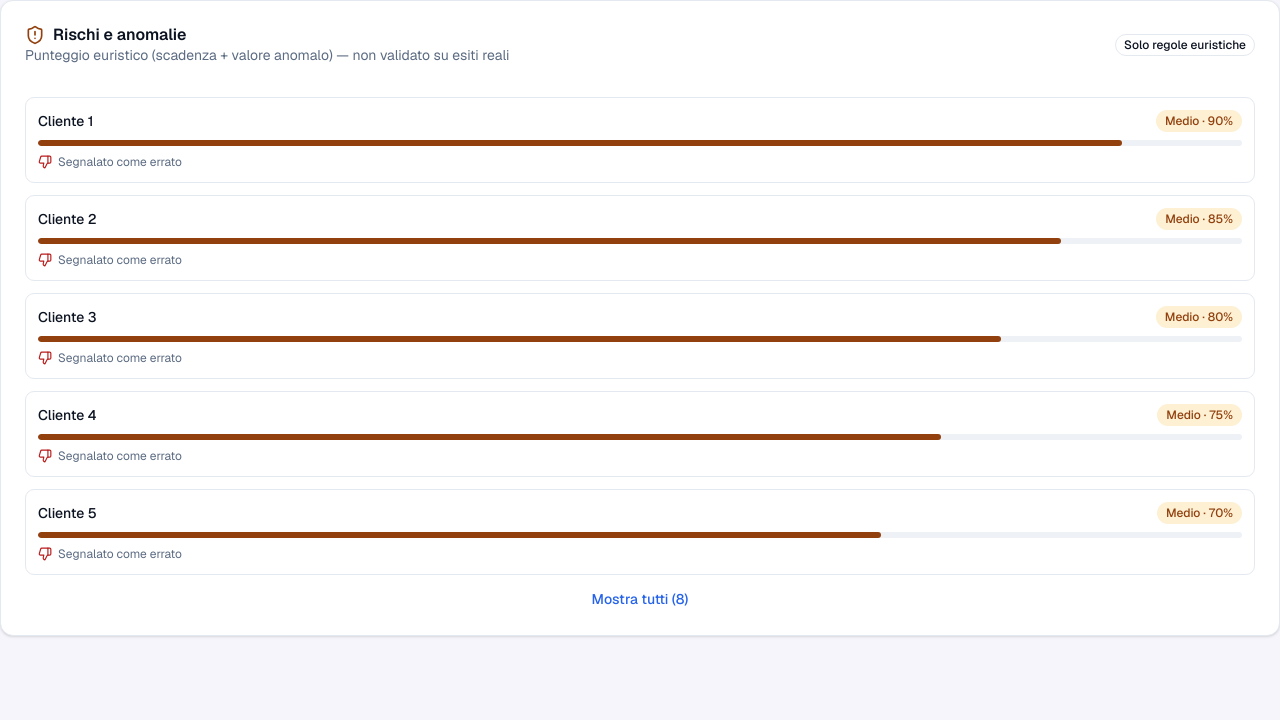
Scenario: RiskScoreWidget › shows only the first 5 scores with a toggle when there are more
Expected: the text "Cliente 1" is shown, [38,111,94,131]
Expected: the text "Cliente 5" is shown, [38,503,97,523]
Click the button "Mostra tutti (8)".
click(640, 599)  # box [25,589,1255,609]
(page scrolled)
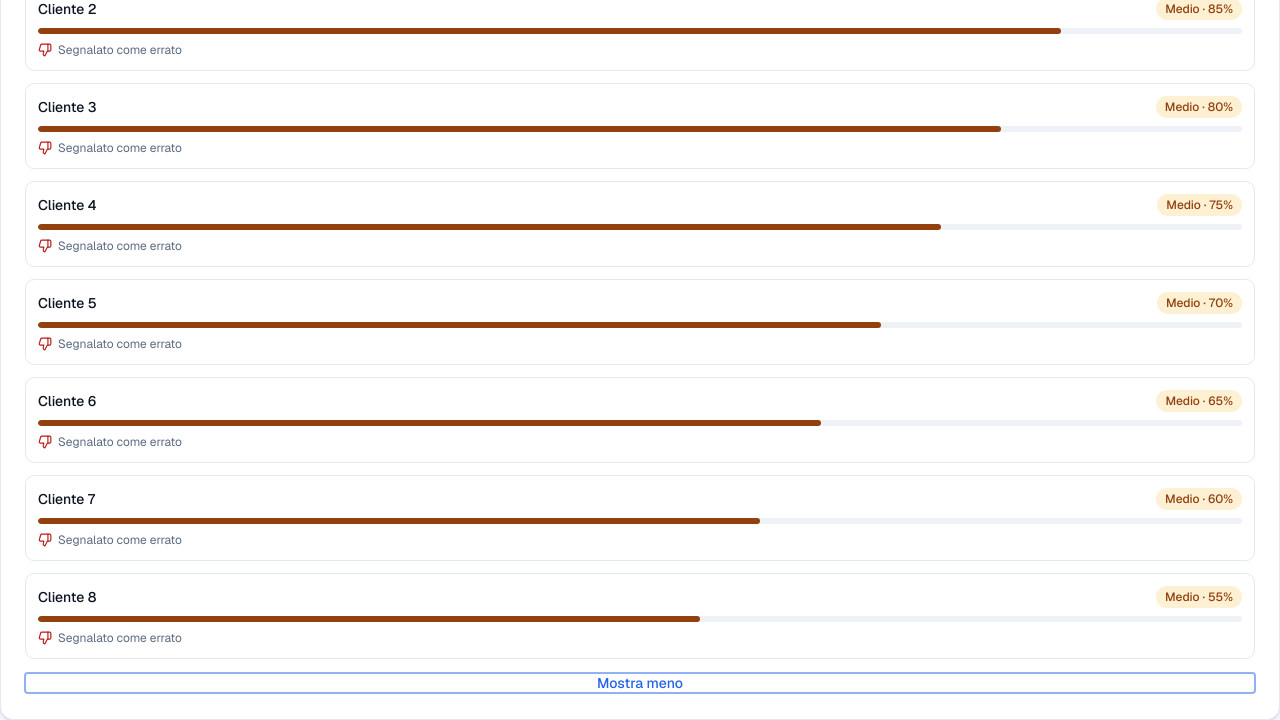
Expected: the text "Cliente 8" is shown, [38,587,96,607]
Expected: the button "Mostra meno" is shown, [25,673,1255,693]
